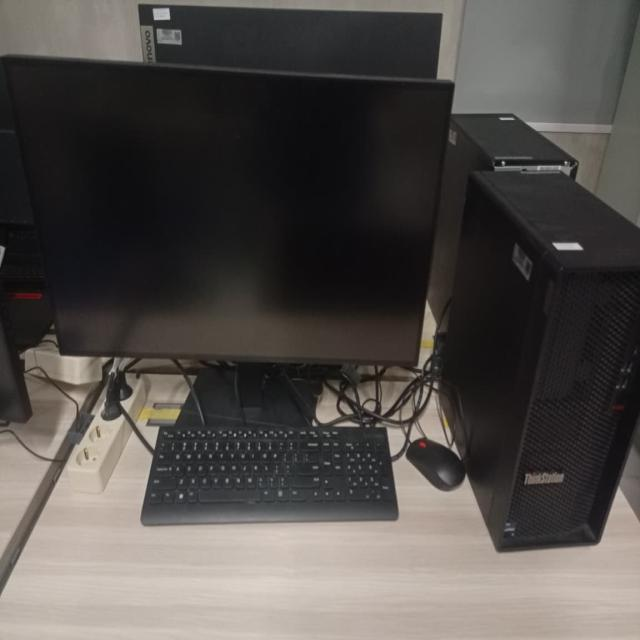keyboard: (134, 420, 402, 530)
monitor: (0, 50, 432, 372)
mouse: (405, 435, 470, 496)
pc: (457, 171, 640, 562)
